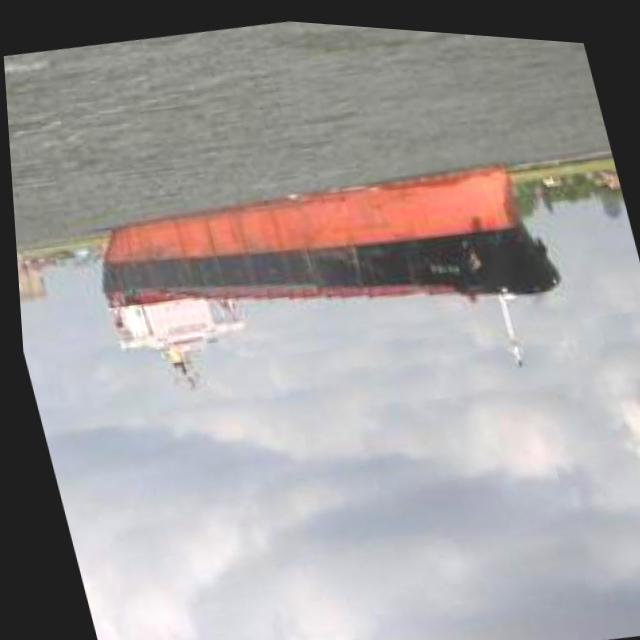ship2: (97, 153, 560, 384)
